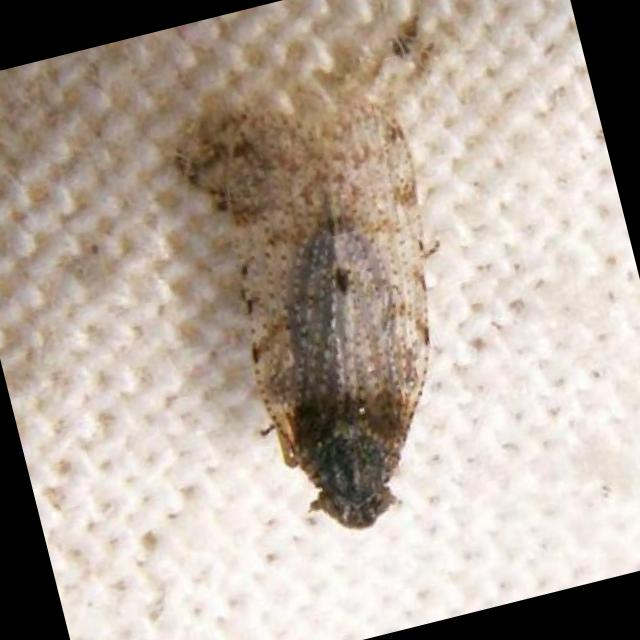brown-planthopper: (197, 81, 493, 548)
